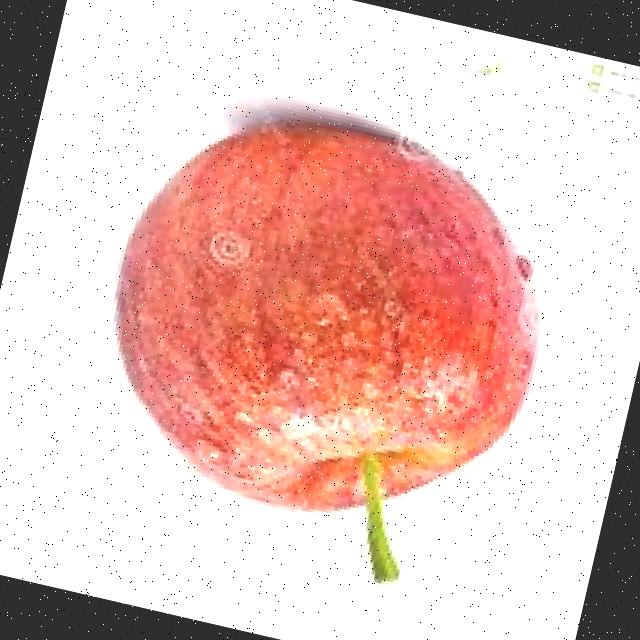apple: (59, 79, 578, 608)
